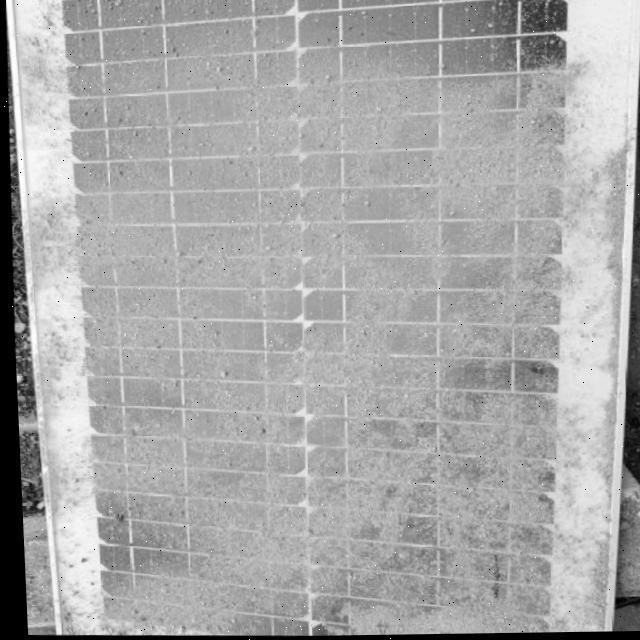Surface Contaminant: (58, 20, 598, 636)
